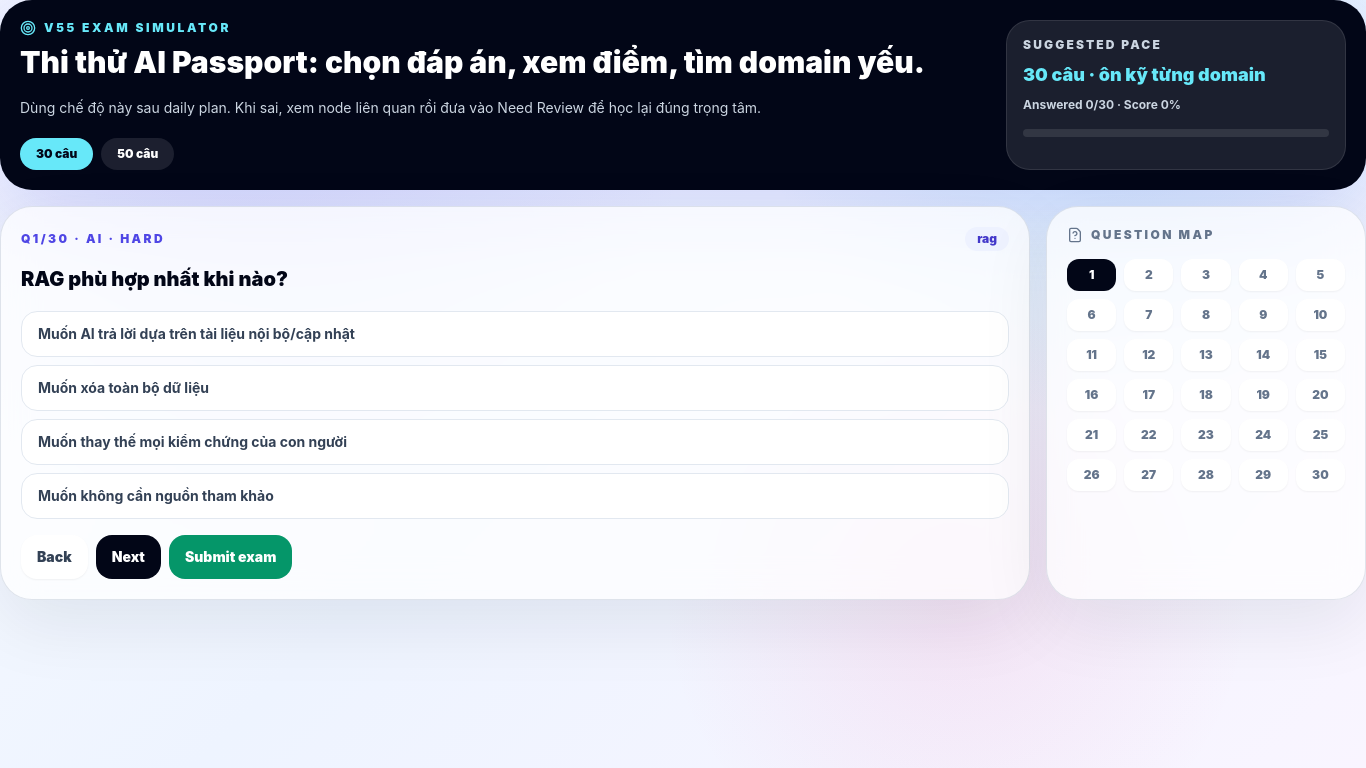
Test: V55 exam practice and final polish › renders the 30/50 question Exam Simulator and can submit
This screenshot has width=1366, height=768.
Expected: the text "V55 Exam Simulator" is shown, [20,20,231,36]
Expected: the button "30 câu" is shown, [20,138,93,170]
Click the button "Submit exam" at [231, 556], box [169,534,292,578]
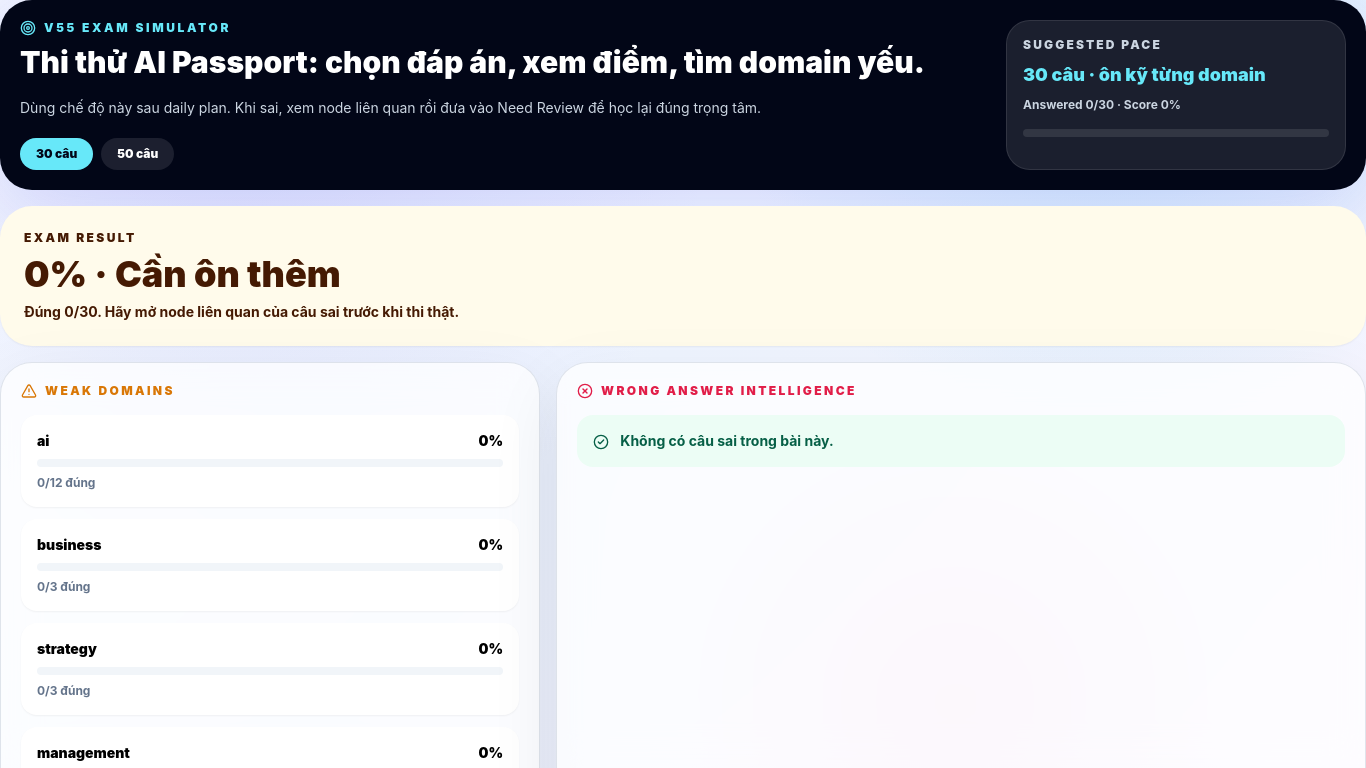
Expected: the text "Exam result" is shown, [24,230,137,244]
Expected: the text "Wrong answer intelligence" is shown, [577,382,857,398]
